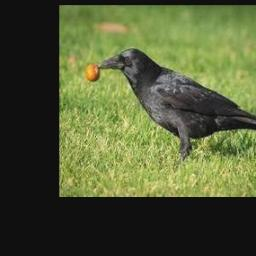Crow: (97, 47, 256, 161)
